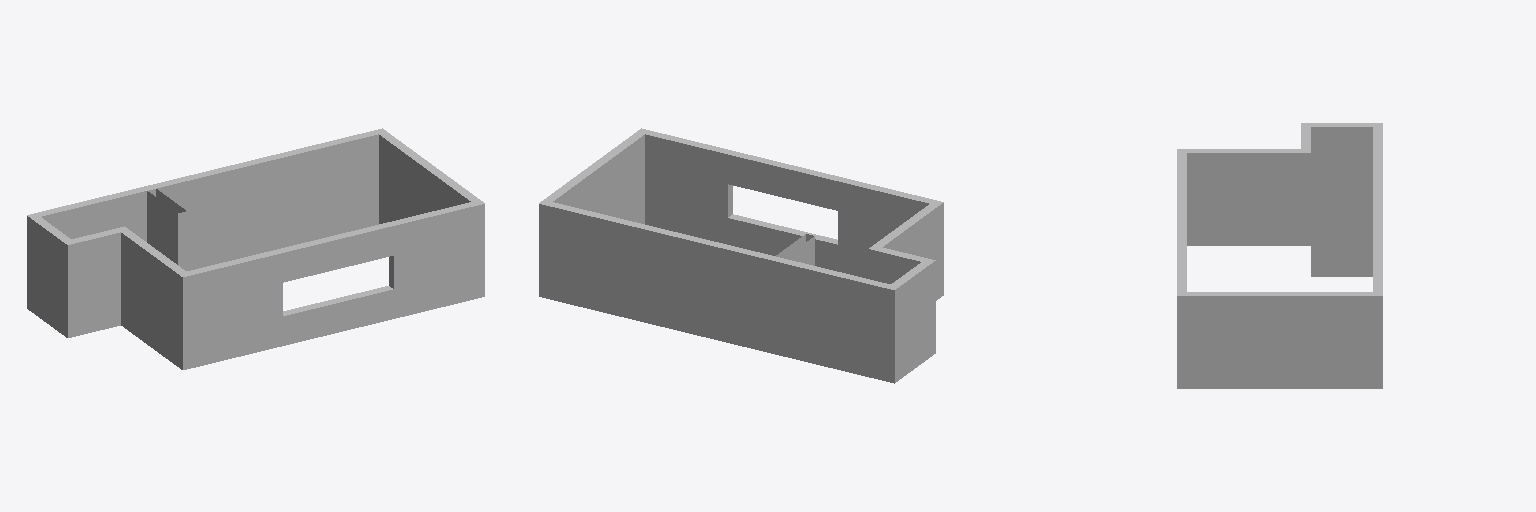
File: paredes.obj
3 renders of one model, left to right at view 1: azimuth 30°, elevation 25°; view 2: azimuth 150°, elevation 25°; view 3: azimuth 270°, elevation 25°, orthographic.
Visible parts, largest first — view 1: parede_1; view 2: parede_1; view 3: parede_1.
Part boxes in pixels (left/top/right/bottom): parede_1: left=27, top=128, right=484, bottom=369; parede_1: left=539, top=128, right=943, bottom=383; parede_1: left=1177, top=123, right=1382, bottom=388.
Size of the model in its own units: 40 by 10 by 20.